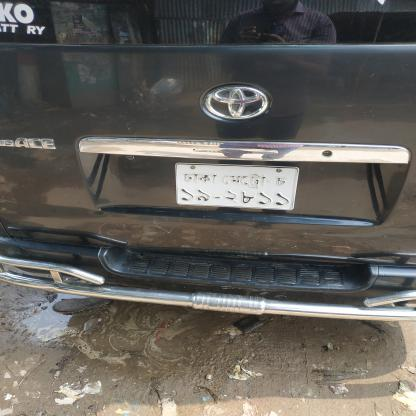license_plate: (144, 128, 347, 226)
